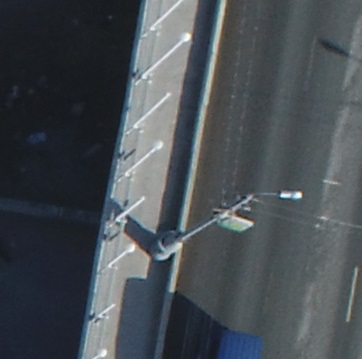opora: (119, 188, 303, 265)
